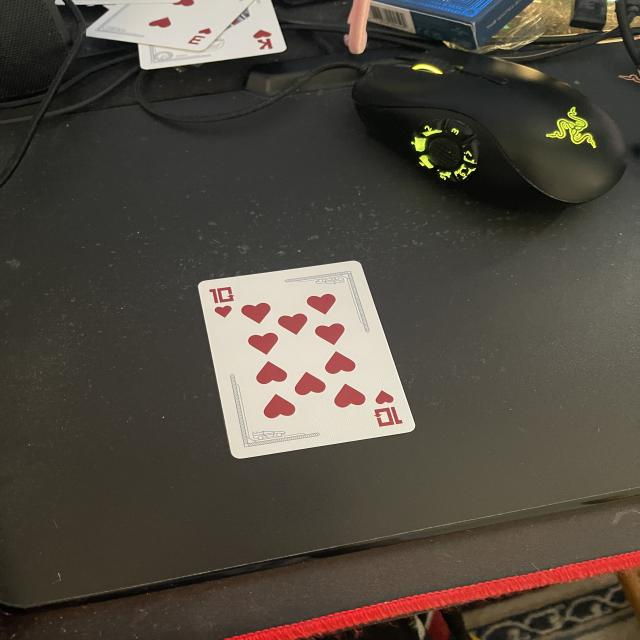10 of hearts: (200, 262, 413, 458)
3 of hearts: (87, 1, 254, 51)
King of hearts: (140, 0, 286, 69)
